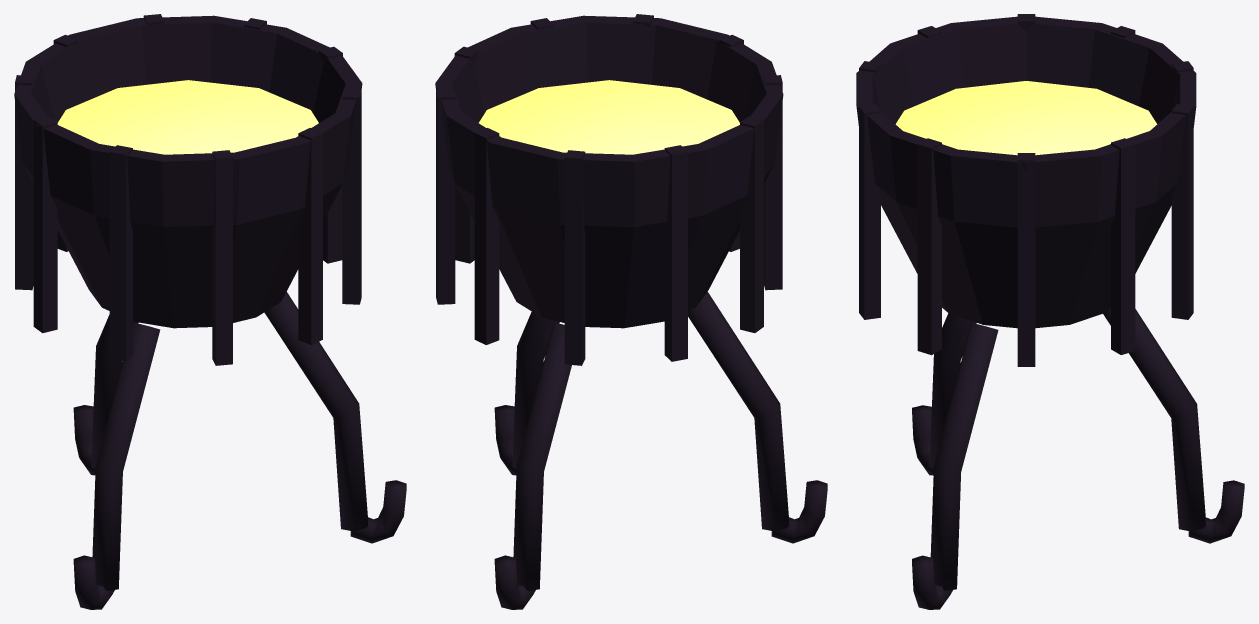
File: brazier_green.glb
3 views of the same model, side by side, from view 1: azimuth 30°, elevation 25°; view 2: azimuth 150°, elevation 25°; view 3: azimuth 270°, elevation 25° (orthographic).
Parts seen in each view (by area): view 1: brazier_green; view 2: brazier_green; view 3: brazier_green.
Boxes of the visible parts, left/top/right/bottom form: brazier_green: left=14, top=14, right=406, bottom=609; brazier_green: left=435, top=14, right=827, bottom=609; brazier_green: left=856, top=14, right=1244, bottom=609.
Size of the model in its own units: 0.4393 by 0.5731 by 0.4441.
